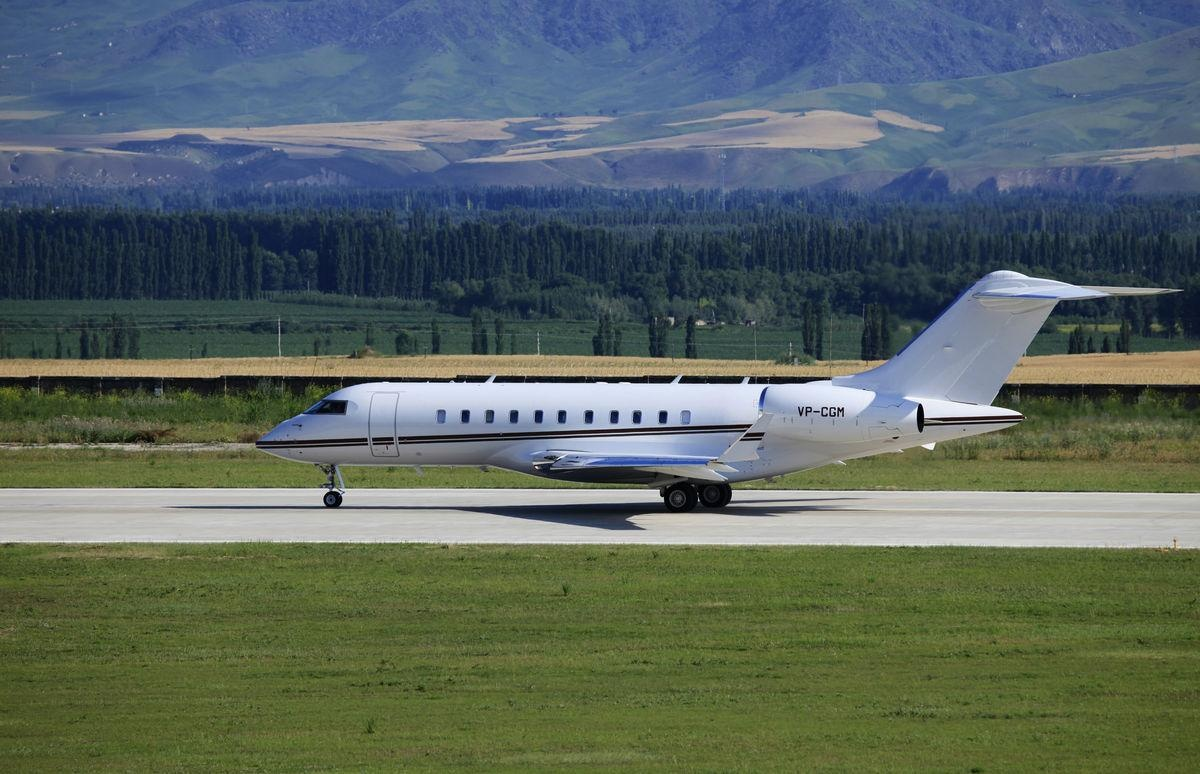airplane: (243, 272, 1184, 514)
